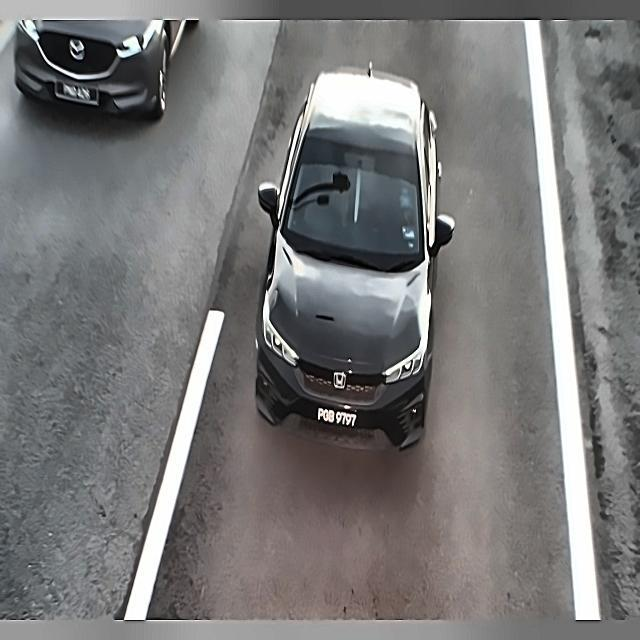car: (51, 78, 102, 109), (310, 404, 363, 432)
